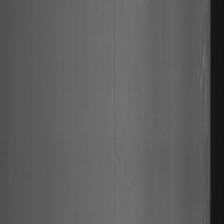silk_spot: (194, 20, 209, 147)
